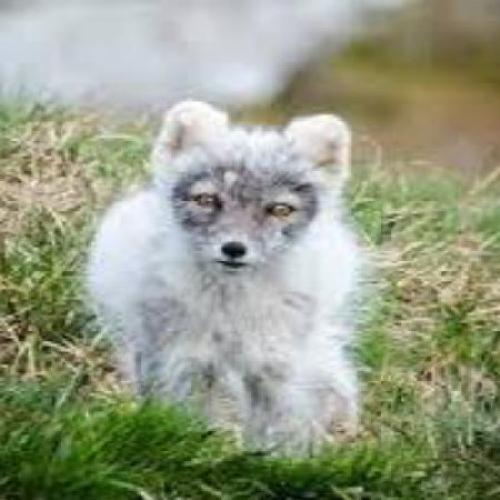arctic_fox-endangered: (87, 101, 364, 458)
